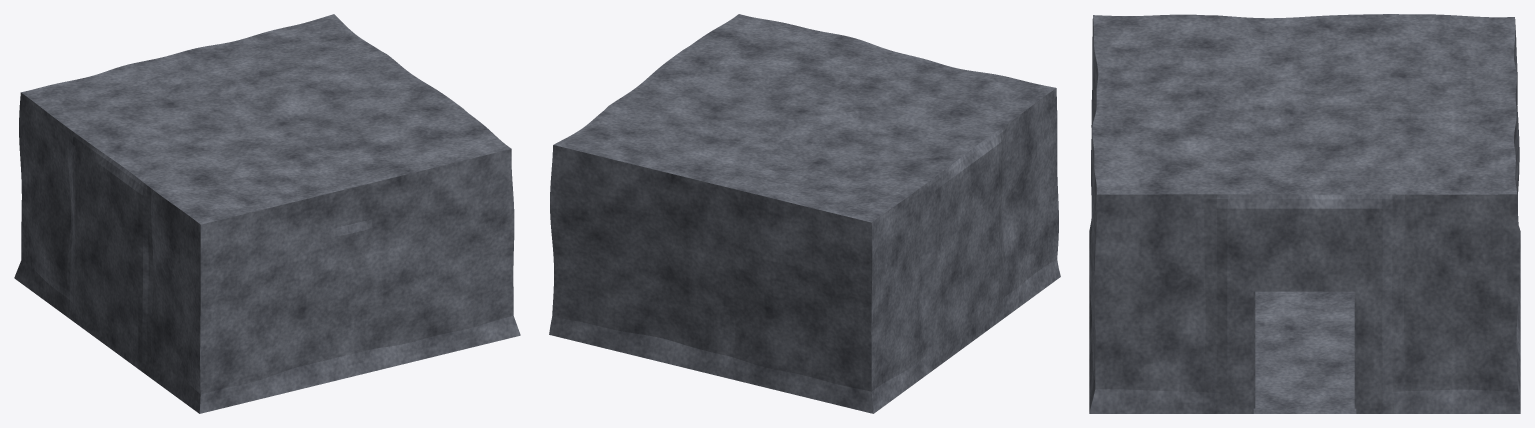
The model's file is cave_gate.glb.
3 renders of one model, left to right at view 1: azimuth 30°, elevation 25°; view 2: azimuth 150°, elevation 25°; view 3: azimuth 270°, elevation 25°, orthographic. The views are drawn at different scales.
Visible parts, largest first — view 1: CaveGate; view 2: CaveGate; view 3: CaveGate.
Boxes of the visible parts, x1,y1,x2,y2 form: CaveGate: (14, 14, 520, 413); CaveGate: (549, 14, 1060, 413); CaveGate: (1089, 14, 1520, 413).
Size of the model in its own units: 16 by 8.97 by 16.
Materials: 1 (1 with a texture image).
